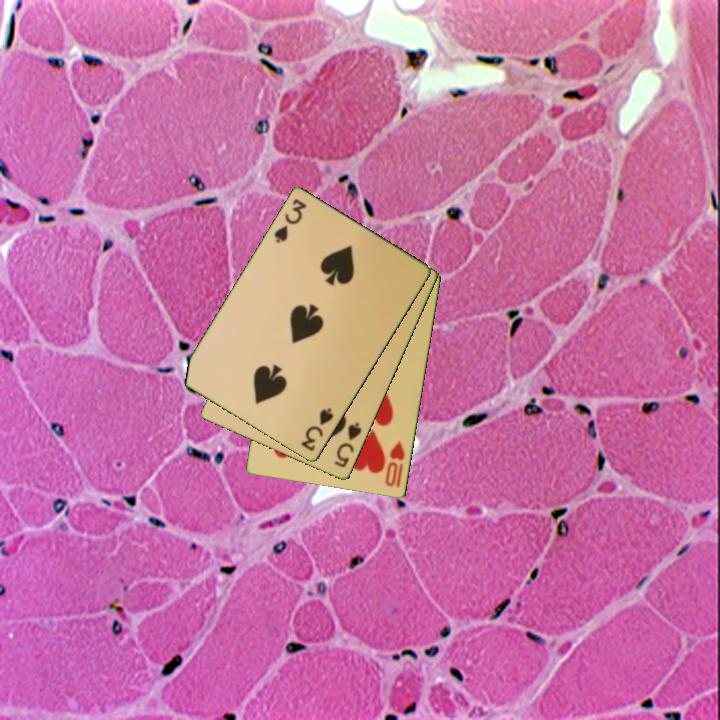10h: (382, 437, 408, 491)
3s: (297, 404, 337, 454), (271, 196, 310, 247)
5s: (331, 419, 365, 471)
